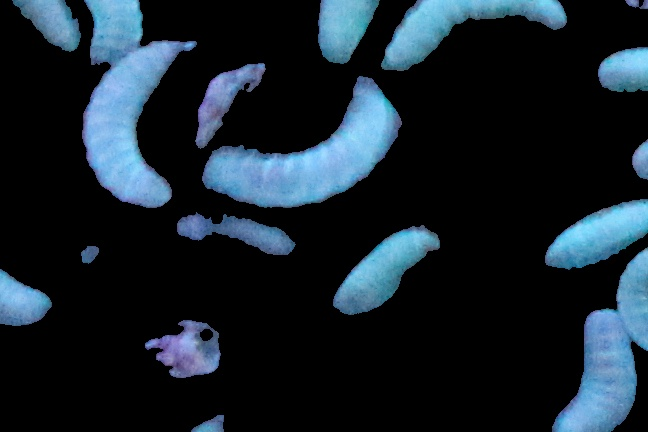larvae: (192, 82, 405, 206), (81, 40, 181, 208), (380, 1, 566, 70), (326, 231, 452, 320), (556, 305, 639, 432), (542, 202, 648, 265), (301, 1, 379, 64), (83, 1, 141, 64), (1, 260, 53, 328), (616, 249, 648, 353), (589, 40, 648, 96), (16, 1, 82, 49)
